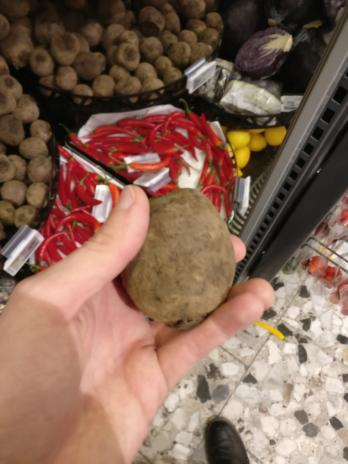beetroot: (121, 187, 238, 328), (0, 1, 209, 61), (0, 79, 48, 223), (21, 60, 166, 86)
